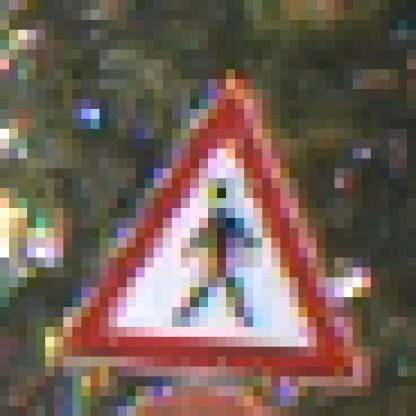crosswalk: (61, 100, 361, 383)
